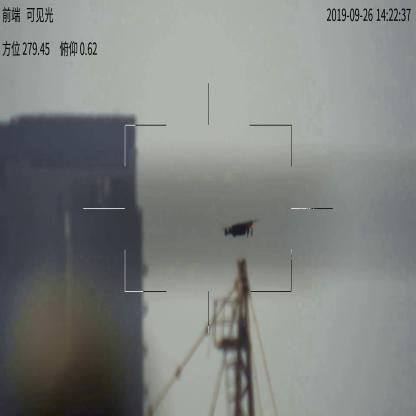uav: (215, 215, 256, 243)
